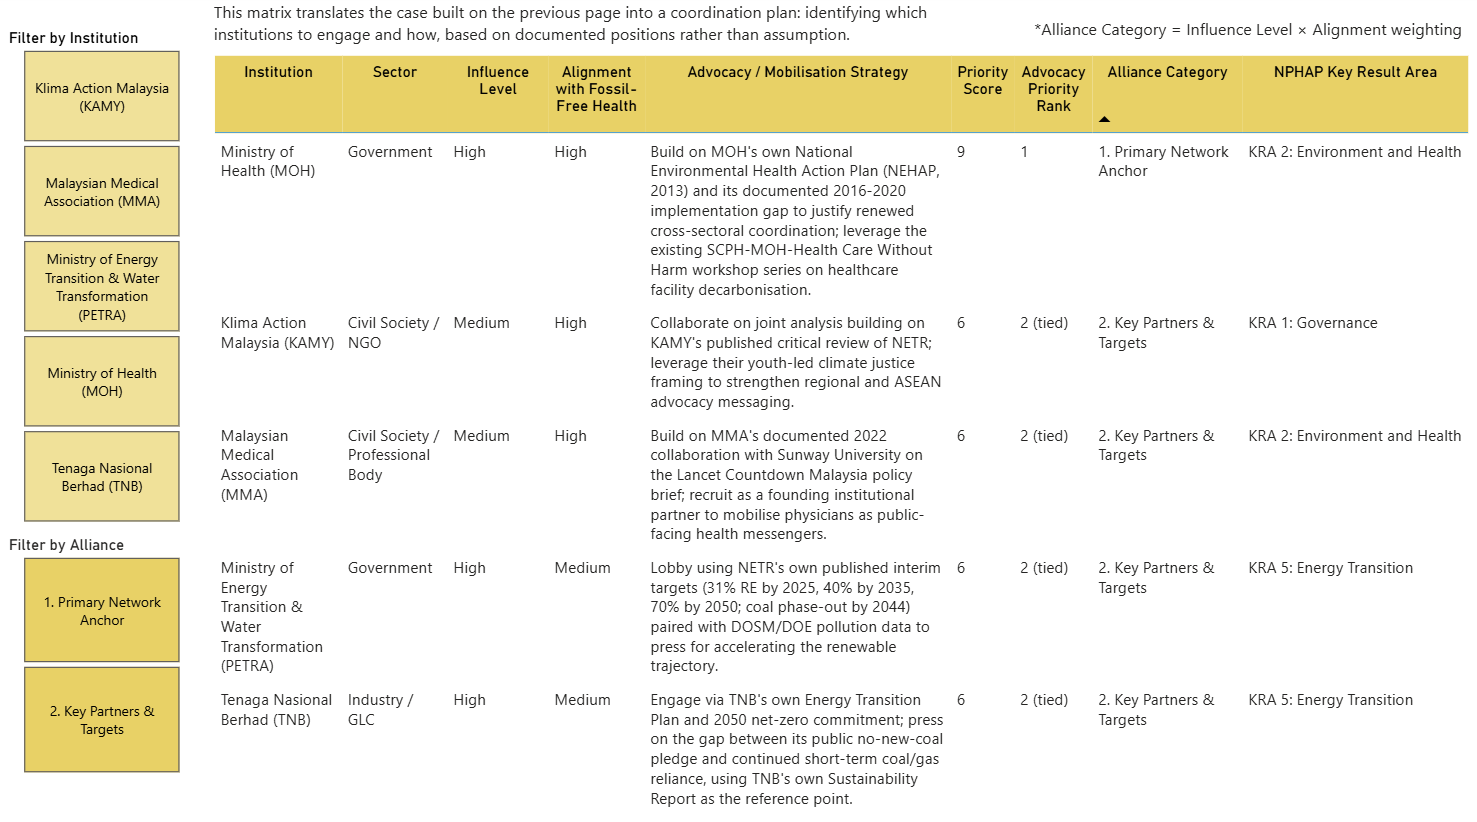

The dashboard page shown, as its layout file describes it:
{"tool":"powerbi","page":{"name":"The Strategy","canvas":[1280,720],"ordinal":1},"visuals":[{"type":"tableEx","fields":{"Values":["stakeholder_matrix_with_sources.Institution","stakeholder_matrix_with_sources.Sector","stakeholder_matrix_with_sources.Influence Level","stakeholder_matrix_with_sources.Alignment with Fossil-Free Health","stakeholder_matrix_with_sources.Advocacy / Mobilisation Strategy","stakeholder_matrix_with_sources.Priority Score","stakeholder_matrix_with_sources.Advocacy Priority Rank","stakeholder_matrix_with_sources.Alliance Category","stakeholder_matrix_with_sources.NPHAP Strategic Pillar"]},"box":[184.4,47.8,1093.3,672.2],"z":0},{"type":"slicer","fields":{"Values":["stakeholder_matrix_with_sources.Institution"]},"box":[0,24.4,184.4,436.7],"z":1000},{"type":"slicer","fields":{"Values":["stakeholder_matrix_with_sources.Alliance Category"]},"box":[0,461.1,184.4,215.6],"z":2000},{"type":"textbox","box":[184.4,0,637.8,47.8],"z":4000},{"type":"textbox","box":[885.6,14.4,392.2,33.3],"z":4001}]}

Visuals, with their boxes in screenshot pixels (x1, y1, x2, y2), scaled from the page's 1280x720 canvas onto the 1477x822 screenshot:
tableEx - stakeholder_matrix_with_sources.Institution x stakeholder_matrix_with_sources.Sector: pyautogui.locateOnScreen(213, 55, 1474, 821)
slicer - stakeholder_matrix_with_sources.Institution: pyautogui.locateOnScreen(0, 28, 213, 526)
slicer - stakeholder_matrix_with_sources.Alliance Category: pyautogui.locateOnScreen(0, 526, 213, 773)
textbox: pyautogui.locateOnScreen(213, 0, 949, 55)
textbox: pyautogui.locateOnScreen(1022, 16, 1474, 54)
